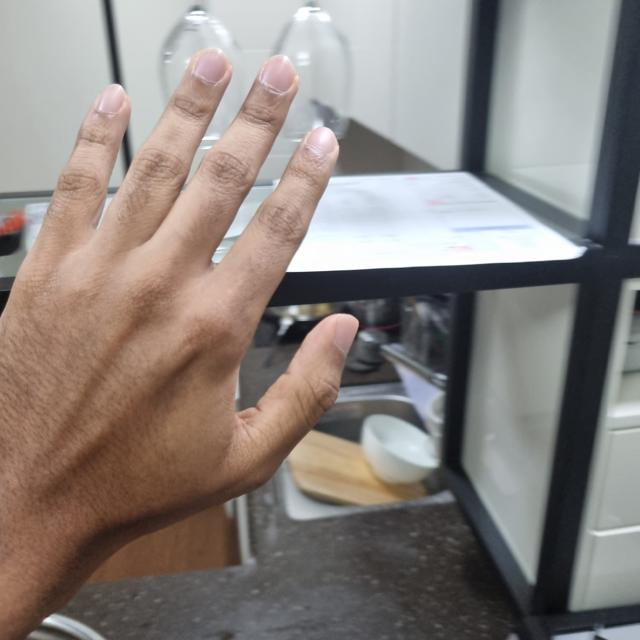Paper: (0, 51, 360, 558)
